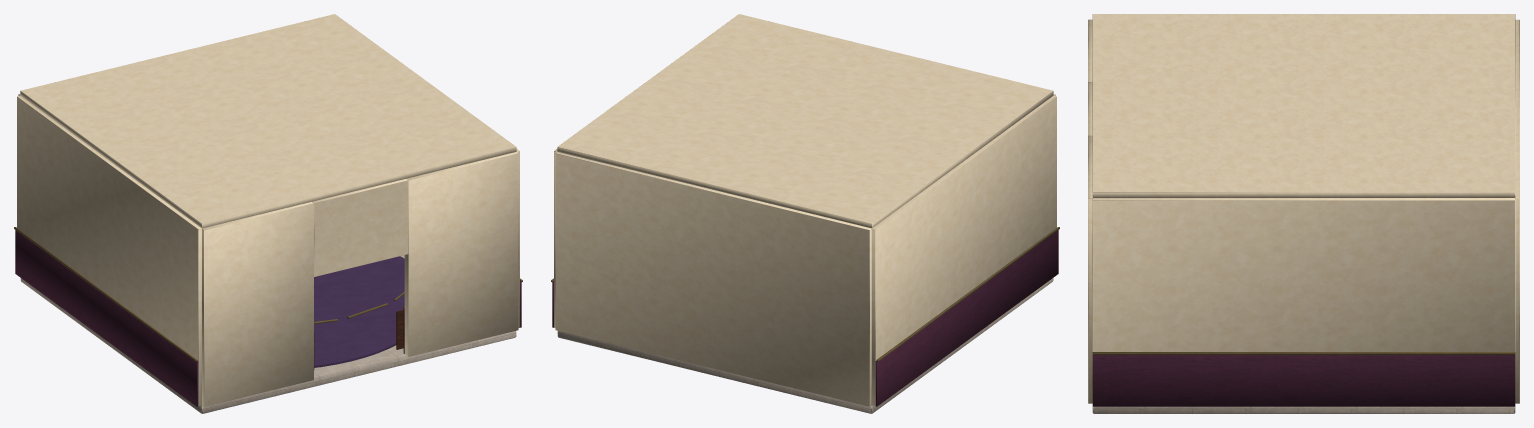
Rendered from explore3d__trial_elevator.glb.
3 views of the same model, side by side, from view 1: azimuth 30°, elevation 25°; view 2: azimuth 150°, elevation 25°; view 3: azimuth 270°, elevation 25° (orthographic). The views are drawn at different scales.
Parts seen in each view (by area): view 1: Rebuilt_trial_elevator; view 2: Rebuilt_trial_elevator; view 3: Rebuilt_trial_elevator.
Part boxes in pixels (<box>): Rebuilt_trial_elevator: <box>14,14,522,413</box>; Rebuilt_trial_elevator: <box>551,14,1059,413</box>; Rebuilt_trial_elevator: <box>1088,14,1519,413</box>.
Bounding box in the file's own units: 8.32 × 4.64 × 8.18.
13 materials, 12 textured.
